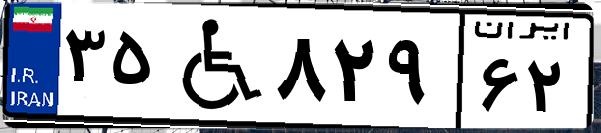2: (330, 28, 385, 110), (525, 38, 570, 115)
3: (57, 26, 110, 100)
5: (110, 28, 158, 98)
6: (475, 38, 525, 113)
8: (270, 28, 330, 110)
9: (385, 28, 445, 110)
ژ (معلولین و جانبازان): (158, 12, 270, 120)
